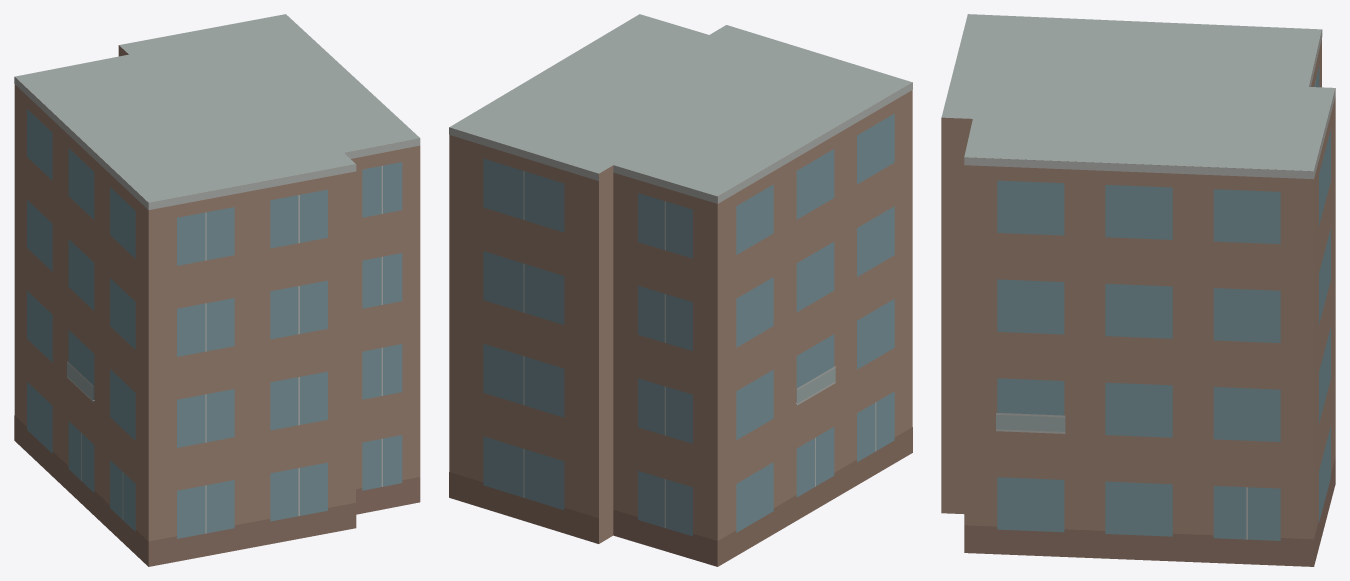
Rendered from survey-upis-32728388.glb.
3 renders of one model, left to right at view 1: azimuth 30°, elevation 25°; view 2: azimuth 150°, elevation 25°; view 3: azimuth 270°, elevation 25°, orthographic. The views are drawn at different scales.
Visible parts, largest first — view 1: survey-upis-32728388.tmp; view 2: survey-upis-32728388.tmp; view 3: survey-upis-32728388.tmp.
Part boxes in pixels (x1,y1,x2,y2): survey-upis-32728388.tmp: [14, 14, 420, 566]; survey-upis-32728388.tmp: [449, 14, 912, 566]; survey-upis-32728388.tmp: [941, 14, 1335, 566].
Bounding box in the file's own units: 10.37 × 12.15 × 10.98.
